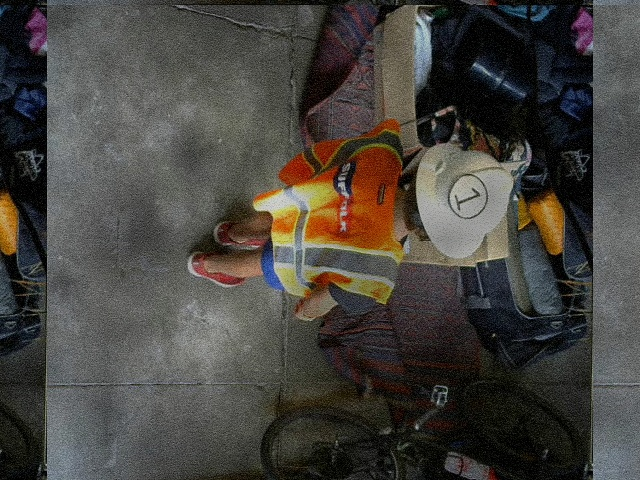one: (448, 173, 488, 217)
